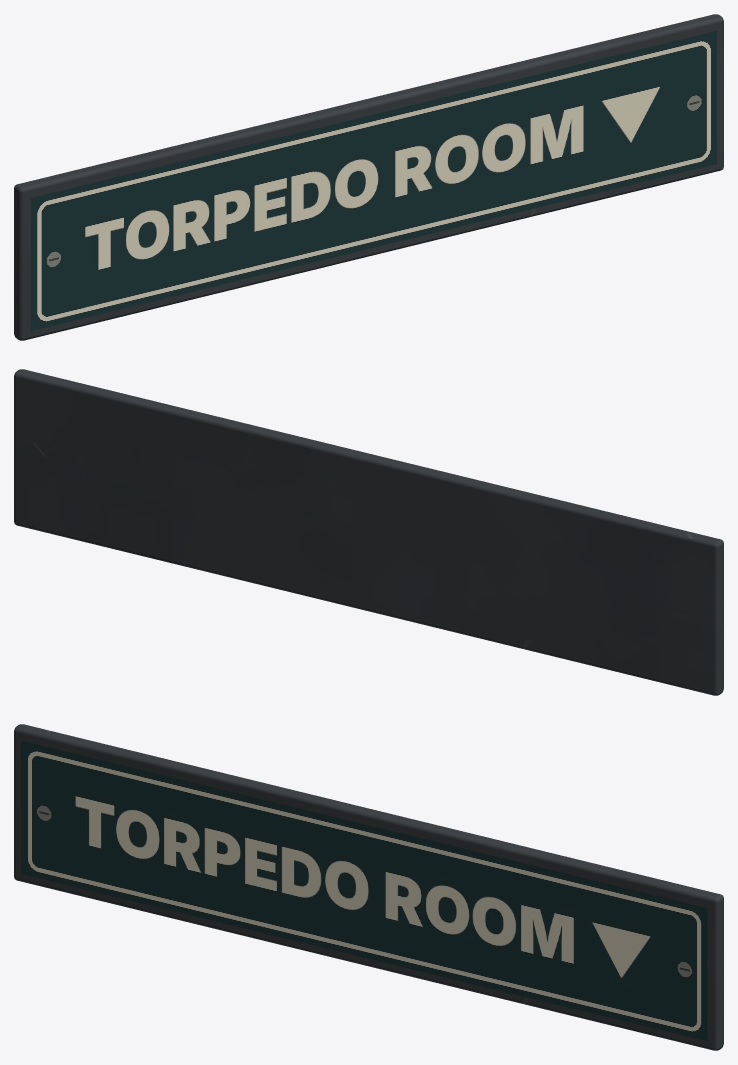
File: RoomSign_Down.glb
3 renders of one model, top to bottom at view 1: azimuth 30°, elevation 25°; view 2: azimuth 150°, elevation 25°; view 3: azimuth 330°, elevation 25°, orthographic.
Visible parts, largest first — view 1: RoomSign_Down_Body; view 2: RoomSign_Down_Body; view 3: RoomSign_Down_Body.
Boxes of the visible parts, x1,y1,x2,y2 form: RoomSign_Down_Body: (14,14,723,340); RoomSign_Down_Body: (14,369,723,695); RoomSign_Down_Body: (14,724,723,1050).
Bounding box in the file's own units: 0.72 × 0.15 × 0.0155.
2 materials, 2 textured.
